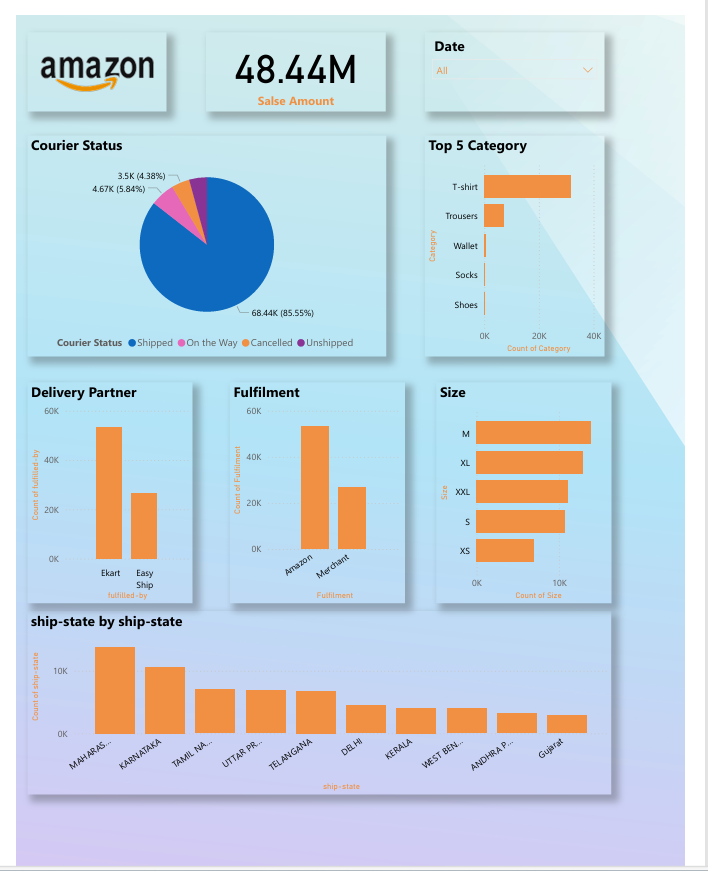

This screenshot's page, from the dashboard's own definition file:
{"tool":"powerbi","page":{"name":"Page 1","canvas":[816,1056],"ordinal":0},"visuals":[{"type":"card","fields":{"Values":["Sum(Amazon Sale Report.Amount)"]},"box":[257,22,244,108],"z":0},{"type":"image","box":[14,22,189,108],"z":1000},{"type":"slicer","fields":{"Values":["Amazon Sale Report.Date"]},"box":[553,22,244,108],"z":2000},{"type":"barChart","title":"Top 5 Category","fields":{"Category":["Amazon Sale Report.Category"],"Y":["CountNonNull(Amazon Sale Report.Category)"]},"box":[553,162,244,300],"z":3000},{"type":"pieChart","title":"Courier Status ","fields":{"Category":["Amazon Sale Report.Courier Status"],"Y":["CountNonNull(Amazon Sale Report.Courier Status)"]},"box":[14,162,487,300],"z":4000},{"type":"columnChart","title":"Delivery Partner","fields":{"Category":["Amazon Sale Report.fulfilled-by"],"Y":["CountNonNull(Amazon Sale Report.fulfilled-by)"]},"box":[14.4,496.7,224.4,300],"z":5000},{"type":"columnChart","title":"Fulfilment","fields":{"Category":["Amazon Sale Report.Fulfilment"],"Y":["CountNonNull(Amazon Sale Report.Fulfilment)"]},"box":[288.9,496.7,237.8,300],"z":6000},{"type":"clusteredBarChart","title":"Size","fields":{"Category":["Amazon Sale Report.Size"],"Y":["CountNonNull(Amazon Sale Report.Size)"]},"box":[568.9,496.7,237.8,300],"z":7000},{"type":"clusteredColumnChart","title":" ship-state by ship-state","fields":{"Category":["Amazon Sale Report.ship-state"],"Y":["CountNonNull(Amazon Sale Report.ship-state)"]},"box":[14.4,806.7,792.2,248.9],"z":8000}]}

Visuals, with their boxes on the page's 816x1056 design canvas (x1, y1, x2, y2). These are canvas units, not pixel positions in the 708x871 screenshot, which may show the page scaled, cropped or inside an application window:
card - Sum(Amazon Sale Report.Amount): [x1=257, y1=22, x2=501, y2=130]
image: [x1=14, y1=22, x2=203, y2=130]
slicer - Amazon Sale Report.Date: [x1=553, y1=22, x2=797, y2=130]
"Top 5 Category" barChart: [x1=553, y1=162, x2=797, y2=462]
"Courier Status " pieChart: [x1=14, y1=162, x2=501, y2=462]
"Delivery Partner" columnChart: [x1=14, y1=497, x2=239, y2=797]
"Fulfilment" columnChart: [x1=289, y1=497, x2=527, y2=797]
"Size" clusteredBarChart: [x1=569, y1=497, x2=807, y2=797]
" ship-state by ship-state" clusteredColumnChart: [x1=14, y1=807, x2=807, y2=1056]
